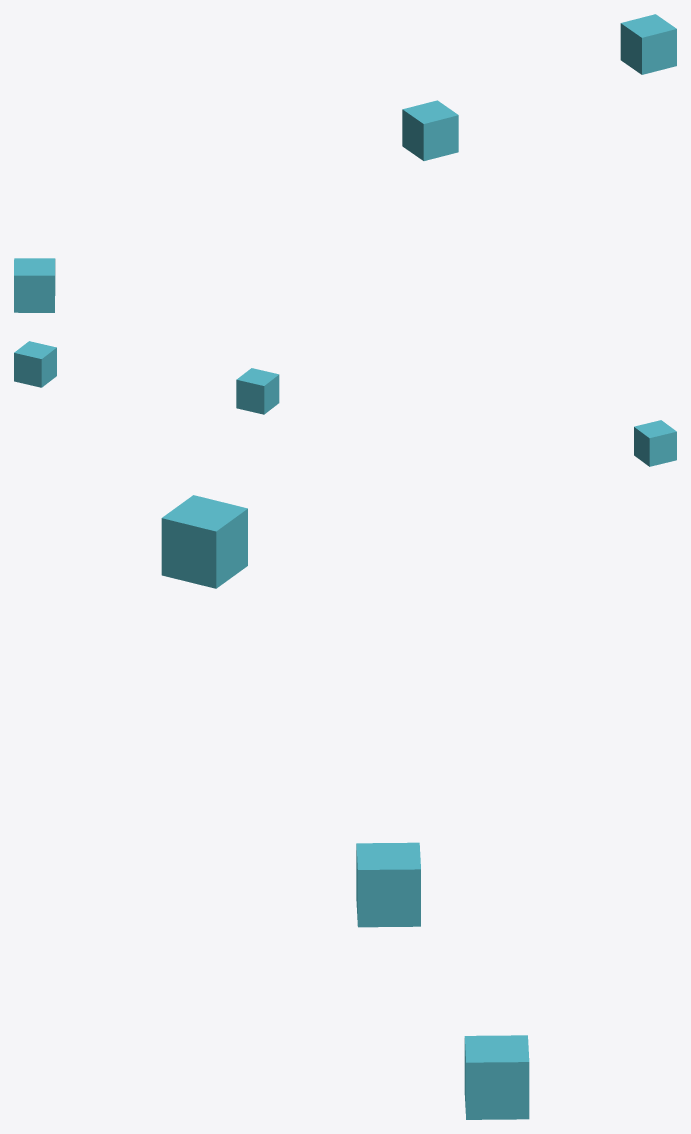
The model's file is 46_chimney.glb.
The picture shows the model from 3 angles, top to bottom: view 1: azimuth 30°, elevation 25°; view 2: azimuth 150°, elevation 25°; view 3: azimuth 270°, elevation 25°; orthographic projection. The views are drawn at different scales.
Visible parts, largest first — view 1: Box003, Box002, Box004; view 2: Box002, Box003, Box004; view 3: Box004, Box003, Box002.
Boxes of the visible parts, x1,y1,x2,y2 form: Box003: (620,14,676,74); Box002: (402,100,458,160); Box004: (14,258,55,312); Box002: (236,368,279,414); Box003: (14,341,56,387); Box004: (634,420,676,466); Box004: (161,495,247,588); Box003: (464,1035,529,1119); Box002: (356,842,420,927).
Bounding box in the file's own units: 17.57 × 0.8581 × 4.83.
